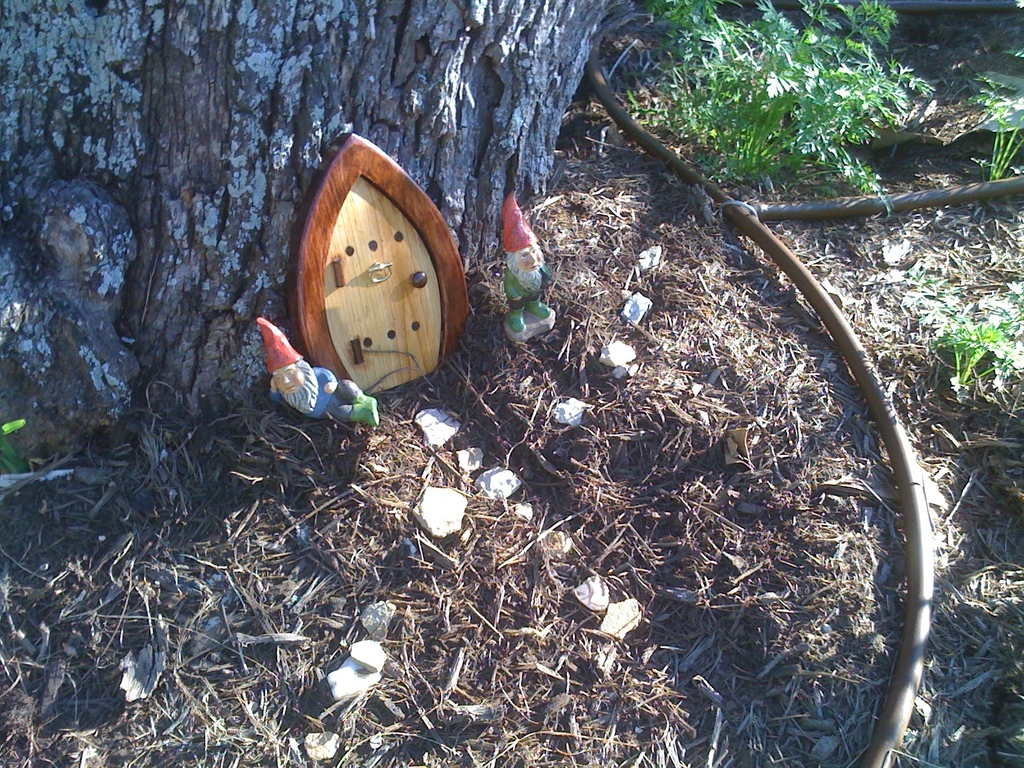Tree: (7, 0, 616, 403)
